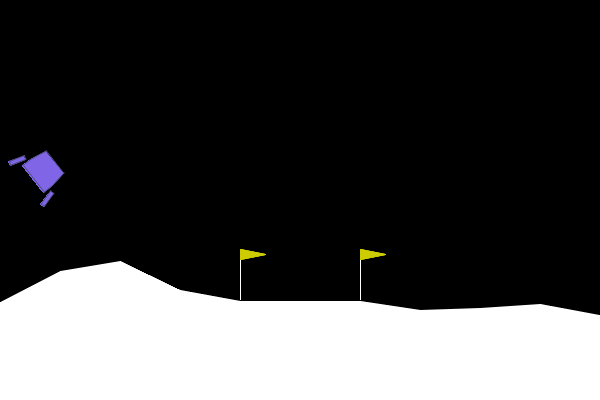lander: (6, 137, 75, 209)
